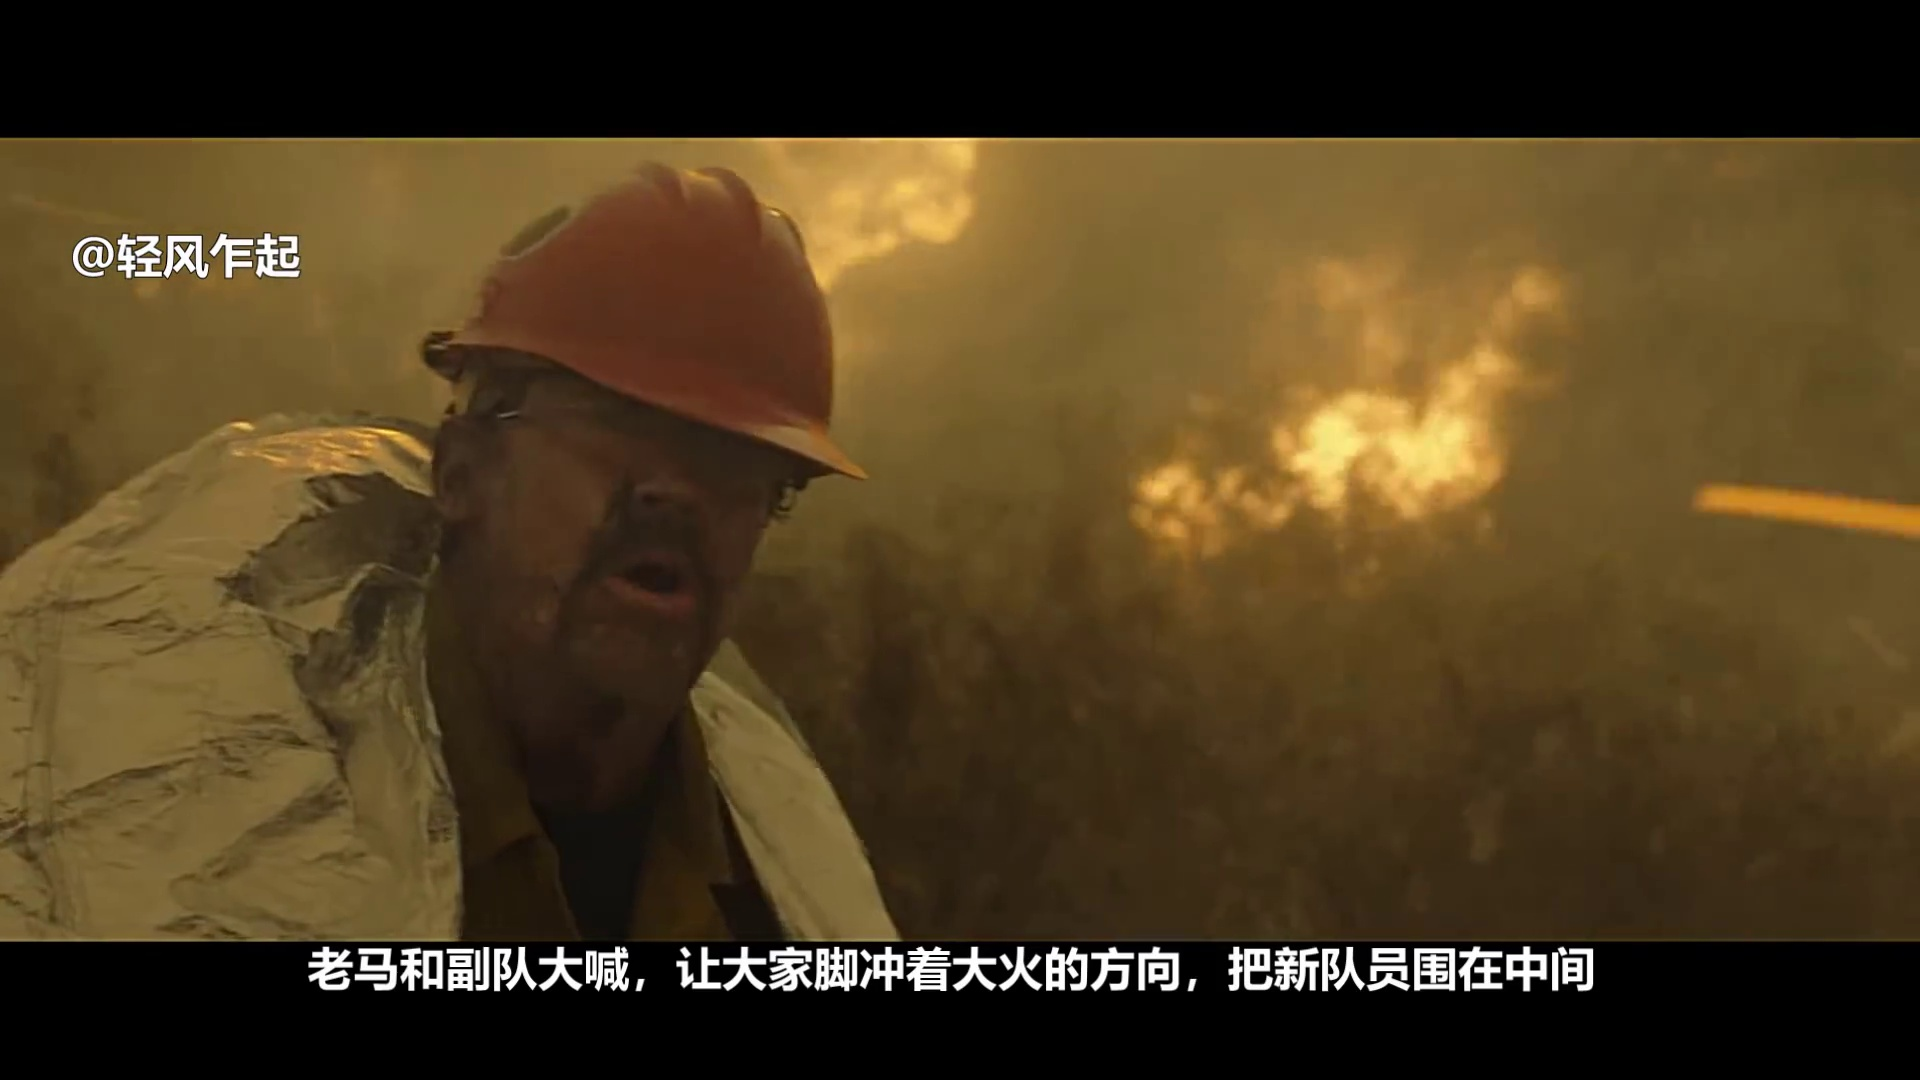fire: (1276, 376, 1497, 525), (806, 145, 971, 277)
